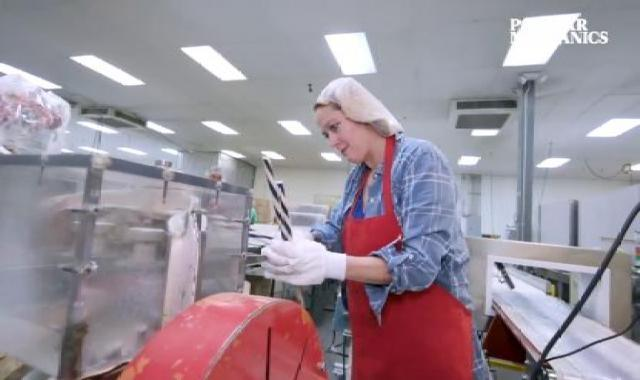apron: (252, 236, 362, 299)
gloves: (303, 76, 407, 142)
no_hairnet: (319, 125, 383, 169)
